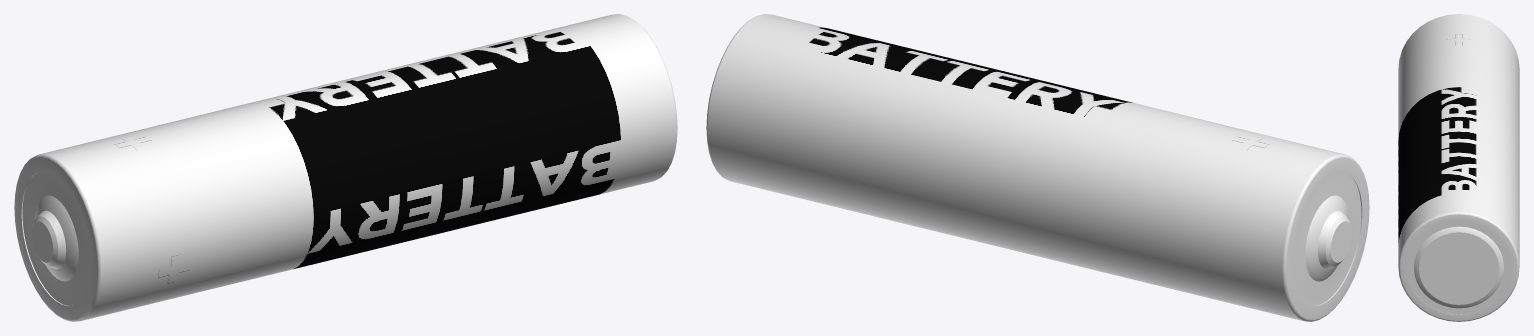
Rendered from 一节电池.fbx.
The picture shows the model from 3 angles, left to right: view 1: azimuth 30°, elevation 25°; view 2: azimuth 150°, elevation 25°; view 3: azimuth 270°, elevation 25°; orthographic projection. The views are drawn at different scales.
Visible parts, largest first — view 1: Battery; view 2: Battery; view 3: Battery.
Part boxes in pixels (x1,y1,x2,y2): Battery: (14,14,677,321); Battery: (706,14,1369,321); Battery: (1398,14,1519,321).
Bounding box in the file's own units: 192 × 48 × 48.
1 material, 1 textured.
